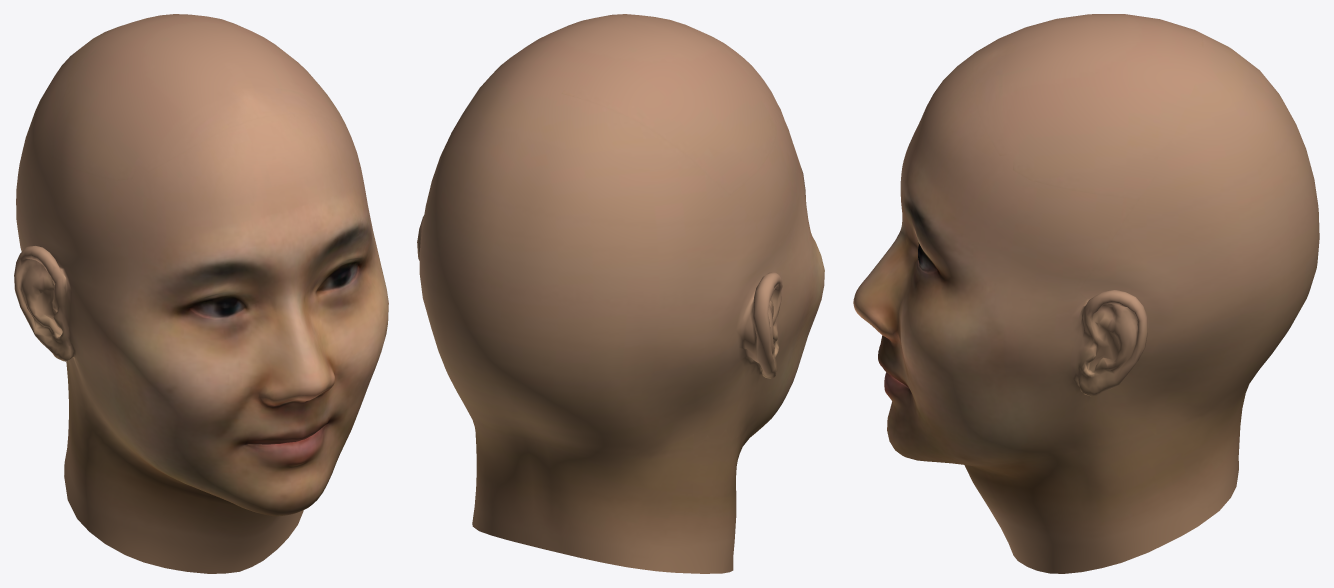
File: Vivien.fbx
3 renders of one model, left to right at view 1: azimuth 30°, elevation 25°; view 2: azimuth 150°, elevation 25°; view 3: azimuth 270°, elevation 25°, orthographic. The views are drawn at different scales.
Parts seen in each view (by area): view 1: HeadHires; view 2: HeadHires; view 3: HeadHires.
Part boxes in pixels (x1,y1,x2,y2): HeadHires: (14, 14, 388, 573); HeadHires: (417, 14, 824, 573); HeadHires: (853, 14, 1319, 573).
Size of the model in its own units: 191 by 284 by 230.
1 material, 1 textured.
